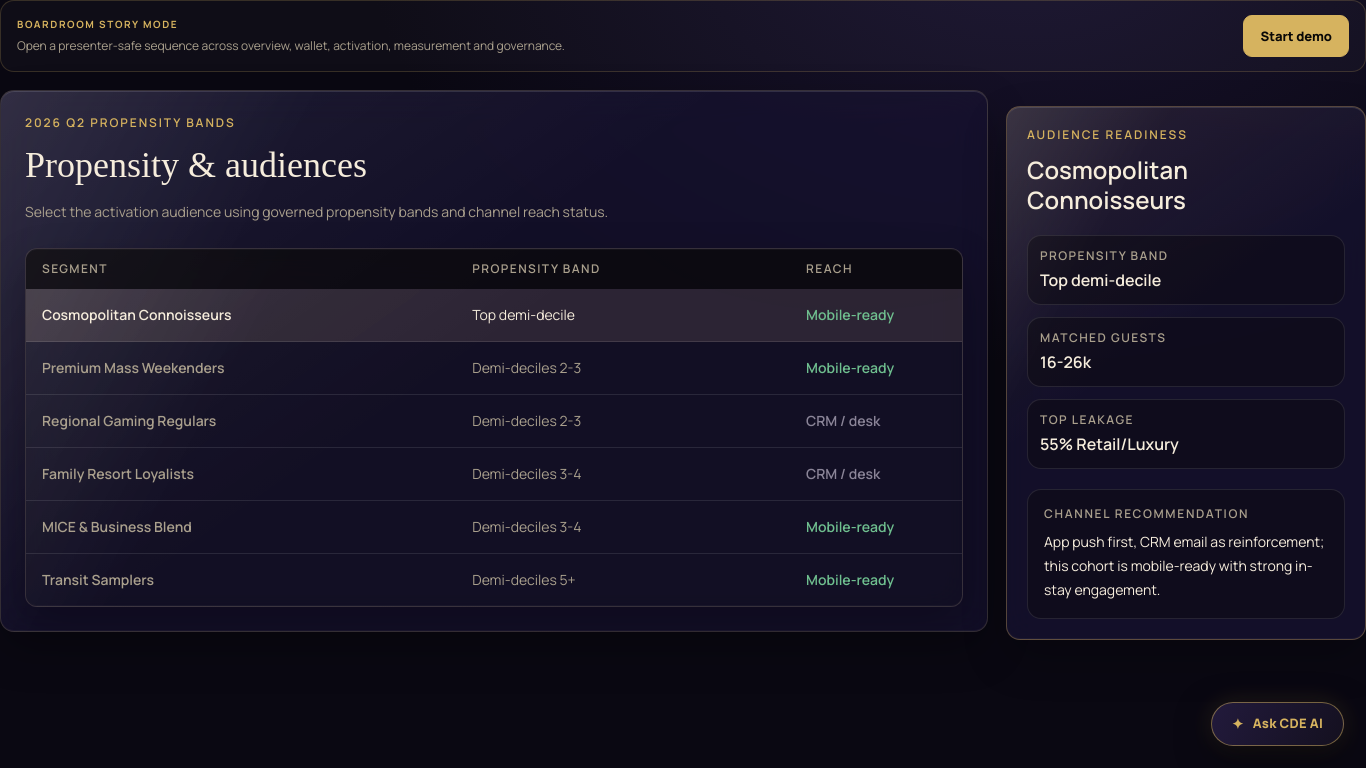
Test: ConstellationRedesignScreen › selects a Propensity row and updates the audience readiness context
Click the button named "Select Regional Gaming Regulars": click(494, 422) [26,395,962,448]
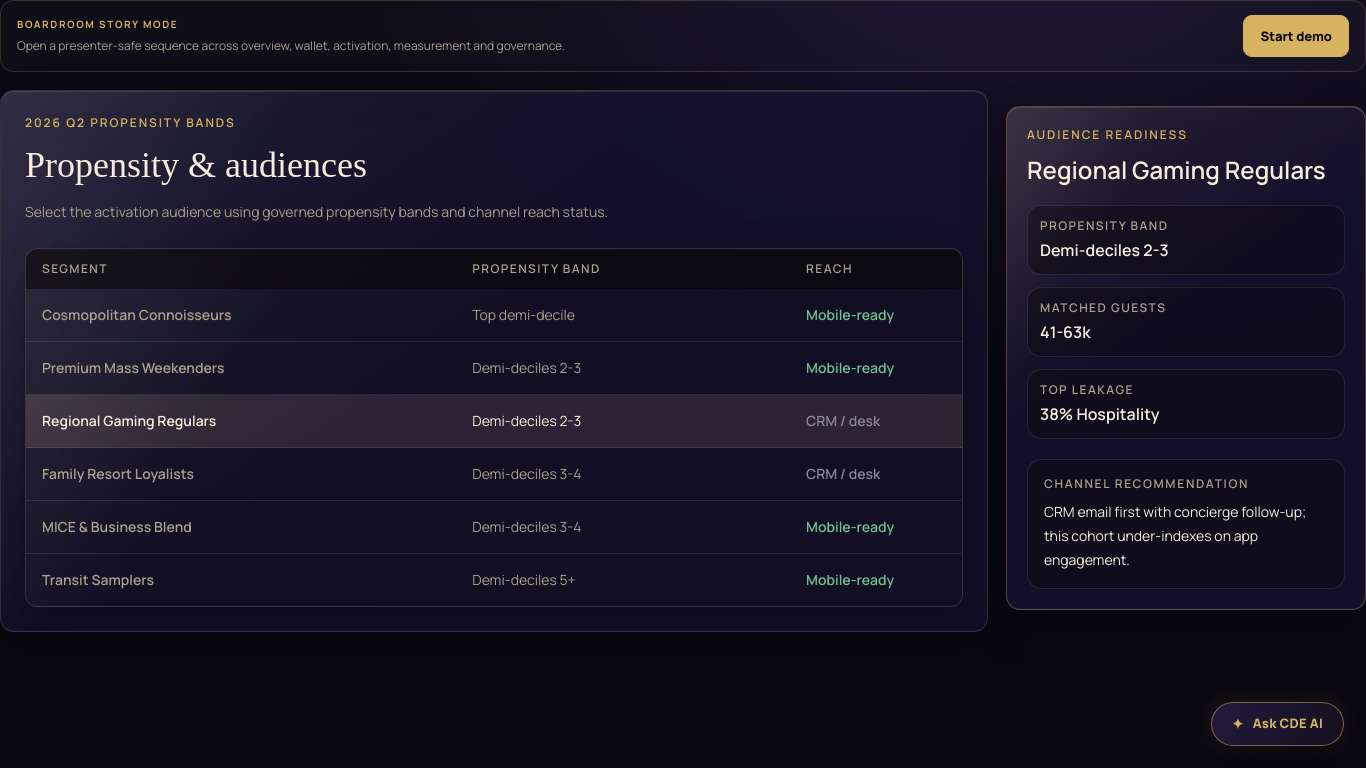
expect the heading "Regional Gaming Regulars" is shown: met, box [1027,155,1345,185]
expect the text "CRM email first with concierge follow-up" is shown: met, box [1044,502,1306,569]
